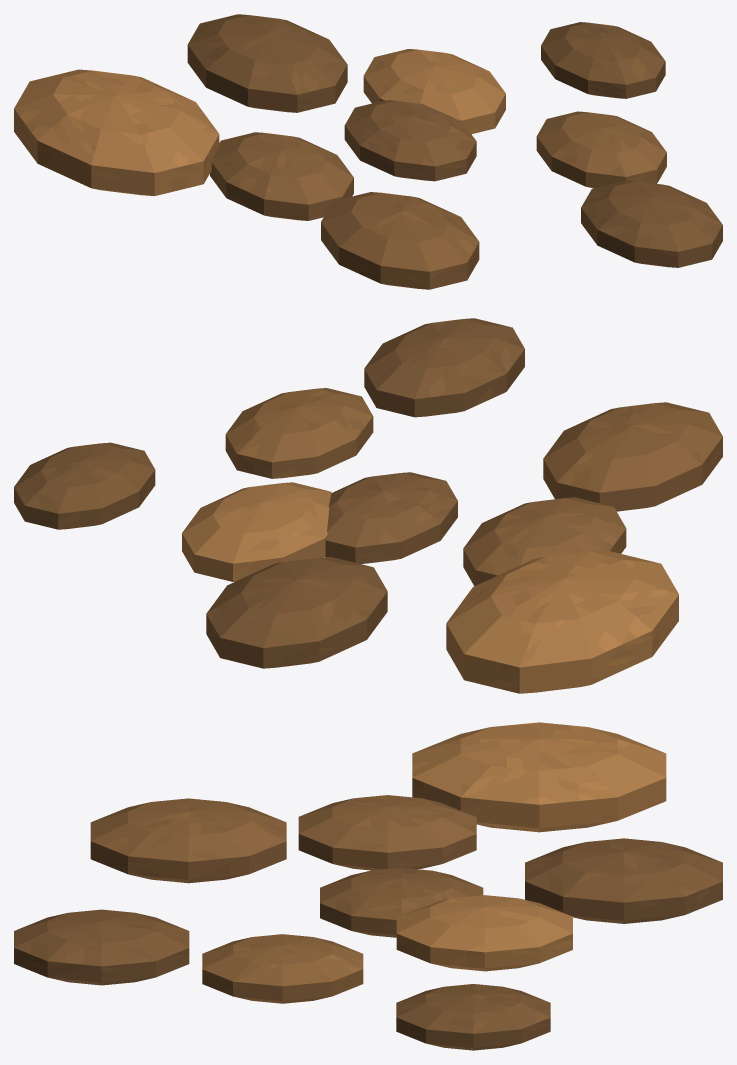
Rendered from seed_bottle_gourd.glb.
3 renders of one model, top to bottom at view 1: azimuth 30°, elevation 25°; view 2: azimuth 150°, elevation 25°; view 3: azimuth 270°, elevation 25°, orthographic. The views are drawn at different scales.
Parts seen in each view (by area): view 1: block_grain 7, block_grain 4, block_grain 5, block_grain 8, block_grain 2, block_grain 0, block_grain 1, block_grain 3, block_grain 6; view 2: block_grain 7, block_grain 4, block_grain 5, block_grain 8, block_grain 1, block_grain 3, block_grain 0, block_grain 6, block_grain 2; view 3: block_grain 7, block_grain 4, block_grain 5, block_grain 2, block_grain 1, block_grain 8, block_grain 3, block_grain 6, block_grain 0.
Part boxes in pixels (x1,y1,x2,y2): block_grain 7: (14, 69, 219, 196); block_grain 4: (187, 14, 347, 112); block_grain 5: (321, 192, 479, 289); block_grain 8: (581, 180, 722, 267); block_grain 2: (210, 132, 353, 220); block_grain 0: (344, 100, 476, 181); block_grain 1: (363, 49, 505, 134); block_grain 3: (536, 111, 666, 188); block_grain 6: (541, 22, 665, 98); block_grain 7: (446, 550, 678, 693); block_grain 4: (206, 557, 387, 668); block_grain 5: (543, 402, 722, 511); block_grain 8: (364, 318, 524, 417); block_grain 1: (182, 482, 331, 581); block_grain 3: (225, 388, 373, 478); block_grain 0: (324, 472, 457, 563); block_grain 6: (14, 442, 155, 529); block_grain 2: (463, 497, 626, 585); block_grain 7: (412, 722, 666, 832); block_grain 4: (525, 838, 722, 923); block_grain 5: (90, 798, 286, 883); block_grain 2: (298, 795, 476, 870); block_grain 1: (396, 895, 572, 971); block_grain 8: (14, 909, 189, 985); block_grain 3: (202, 934, 363, 1003); block_grain 6: (396, 984, 550, 1050); block_grain 0: (320, 867, 483, 937).
Size of the model in its own units: 0.0212 by 0.00261 by 0.022.
1 material, 1 textured.
